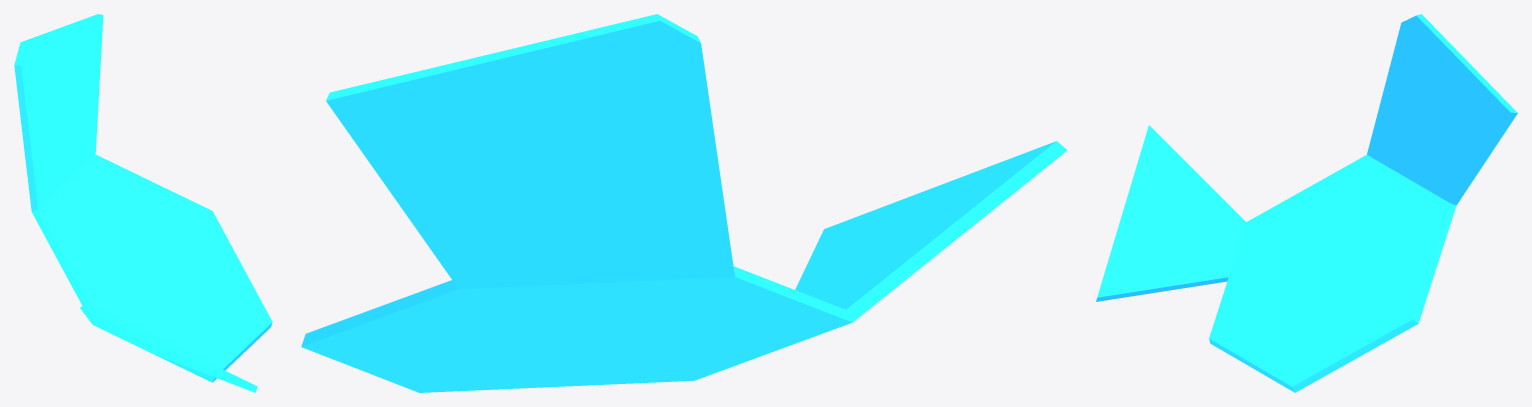
File: Vaccine3_Shard1.fbx
3 renders of one model, left to right at view 1: azimuth 30°, elevation 25°; view 2: azimuth 150°, elevation 25°; view 3: azimuth 270°, elevation 25°, orthographic. The views are drawn at different scales.
Visible parts, largest first — view 1: barrier_shard.001; view 2: barrier_shard.001; view 3: barrier_shard.001.
Part boxes in pixels (x1,y1,x2,y2): barrier_shard.001: (14, 14, 272, 392); barrier_shard.001: (301, 14, 1067, 392); barrier_shard.001: (1096, 14, 1517, 392).
Size of the model in its own units: 81.29 by 83.97 by 112.
